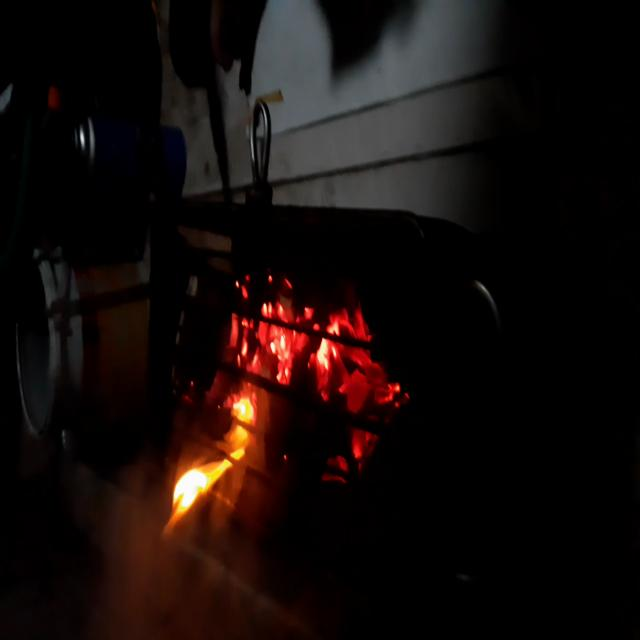Fire: (215, 255, 412, 418), (165, 386, 265, 538), (317, 418, 394, 505)
